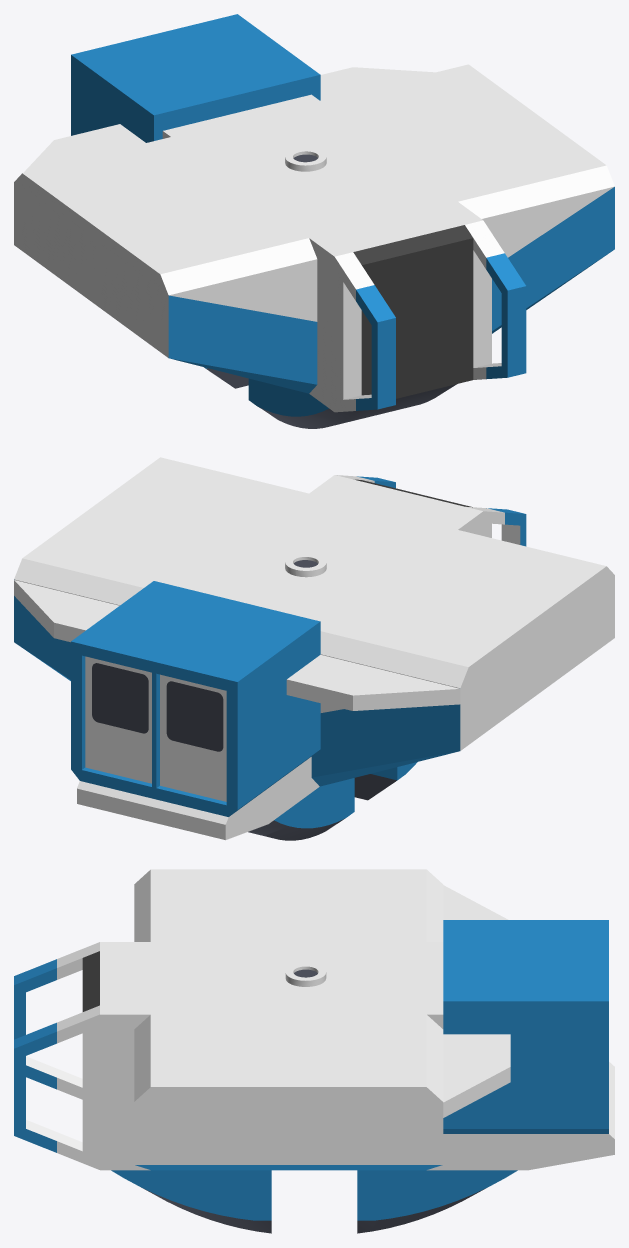
The model's file is body.obj.
The picture shows the model from 3 angles, top to bottom: view 1: azimuth 30°, elevation 25°; view 2: azimuth 150°, elevation 25°; view 3: azimuth 270°, elevation 25°; orthographic projection.
Bounding box in the file's own units: 3 × 1.61 × 3.5.
